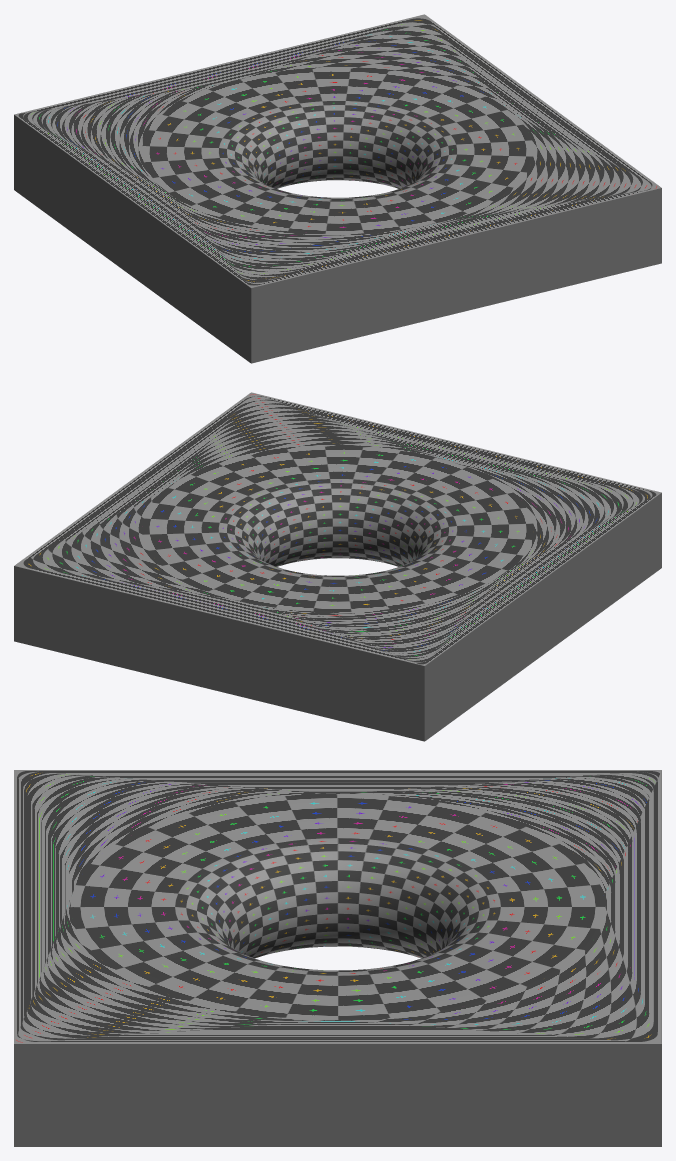
Rendered from HoleInGround.glb.
The picture shows the model from 3 angles, top to bottom: view 1: azimuth 30°, elevation 25°; view 2: azimuth 150°, elevation 25°; view 3: azimuth 270°, elevation 25°; orthographic projection. The views are drawn at different scales.
Parts seen in each view (by area): view 1: TorusHole; view 2: TorusHole; view 3: TorusHole.
Boxes of the visible parts, x1,y1,x2,y2 form: TorusHole: (14,14,661,363); TorusHole: (14,392,661,741); TorusHole: (14,770,661,1146).
Size of the model in its own units: 7.52 by 1.32 by 7.52.
1 material, 1 textured.
